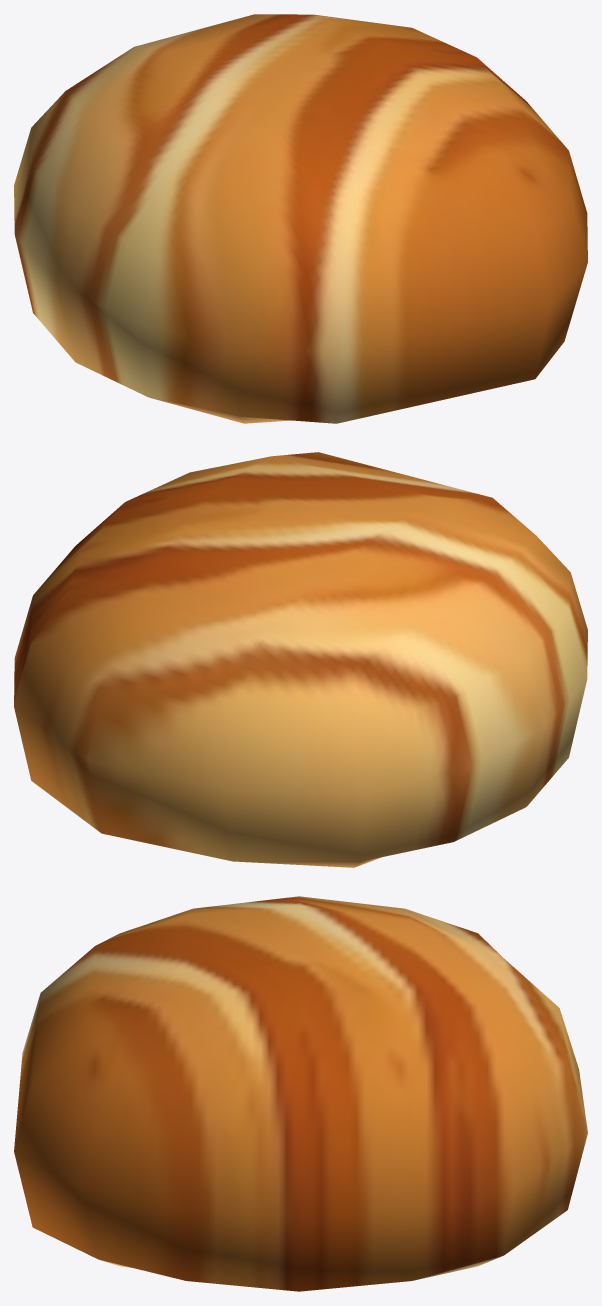
Rendered from Bread_2.fbx.
3 renders of one model, top to bottom at view 1: azimuth 30°, elevation 25°; view 2: azimuth 150°, elevation 25°; view 3: azimuth 270°, elevation 25°, orthographic.
Visible parts, largest first — view 1: Bread_2; view 2: Bread_2; view 3: Bread_2.
Part boxes in pixels (x1,y1,x2,y2): Bread_2: (14, 14, 587, 423); Bread_2: (14, 452, 587, 867); Bread_2: (14, 896, 587, 1291).
Bounding box in the file's own units: 0.2212 × 0.1117 × 0.2313.
